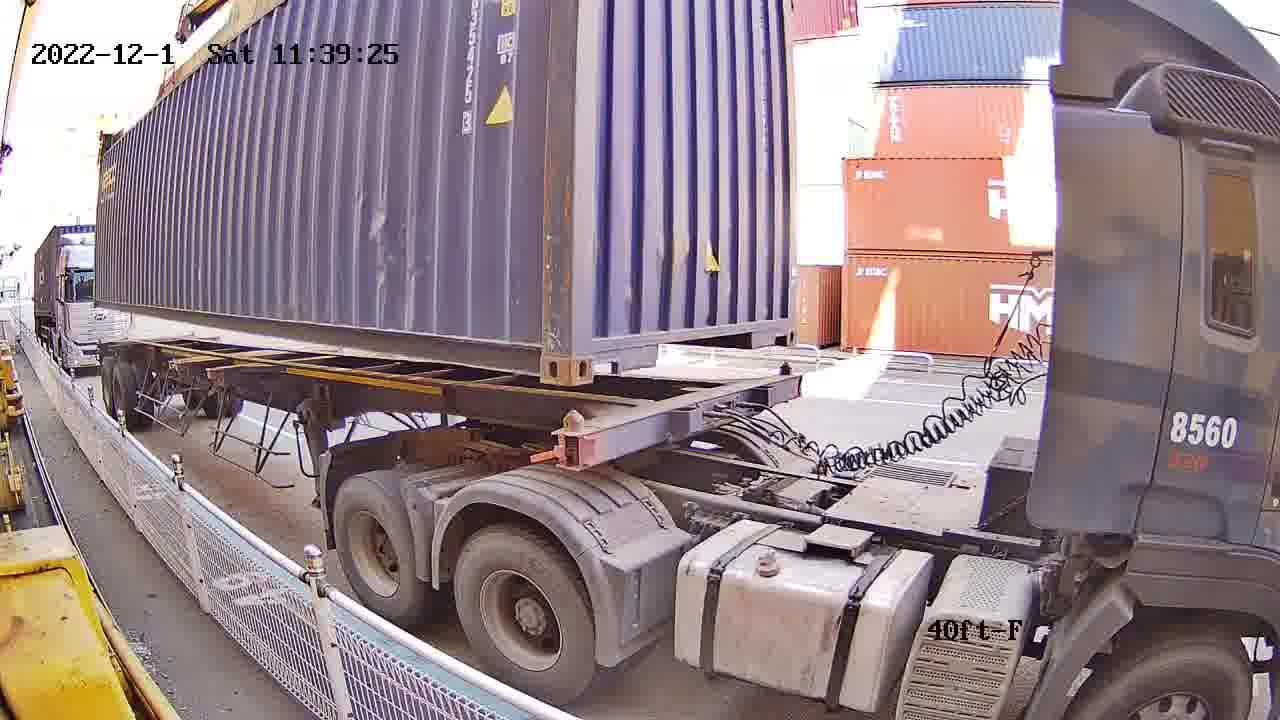Chassis: (557, 371, 801, 467)
Cone: (552, 407, 586, 471), (778, 362, 798, 388)
Hole_L: (574, 327, 622, 388)
Hole_R: (513, 319, 575, 390), (765, 298, 799, 348)
Tire: (458, 530, 597, 703), (334, 484, 418, 614)
